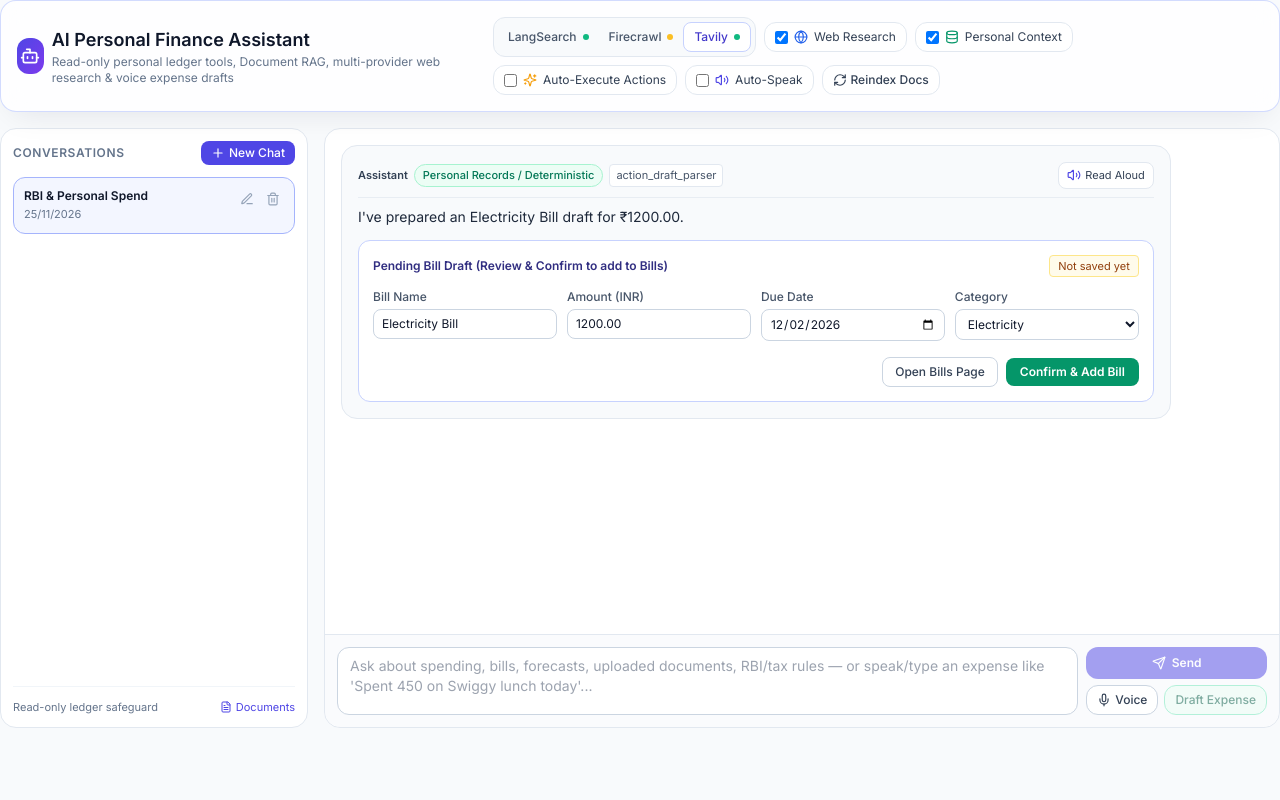
Scenario: AssistantPage (Phase 10) › persists Bill Draft confirmation on server message and replaces button permanently with Saved state
What coordinates should you click on to do the following:
click the button "Confirm & Add Bill"
I would click on:
 (1072, 372)
Its box is x1=1006 y1=358 x2=1139 y2=386.
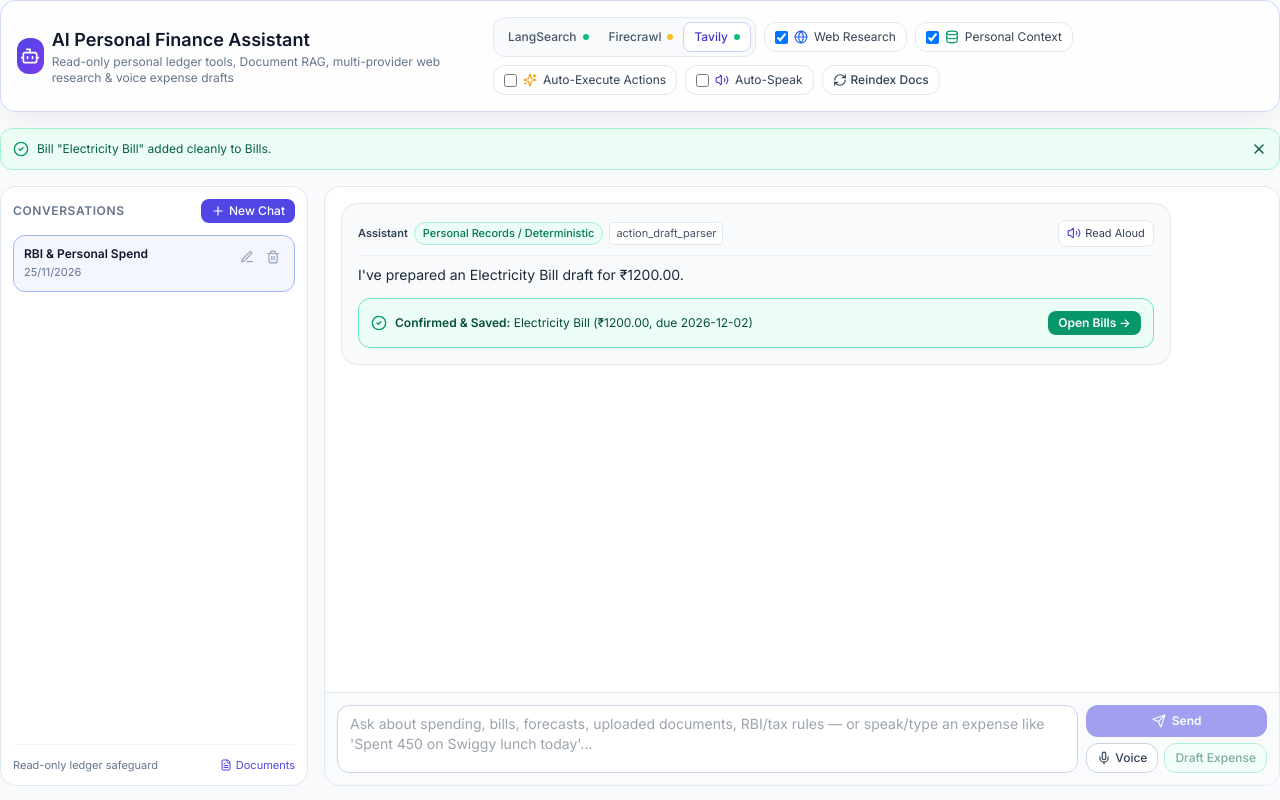
Expected: the button "Confirm & Add Bill" is gone
Expected: the button "Open Bills →" is shown, x1=1048 y1=311 x2=1141 y2=335
